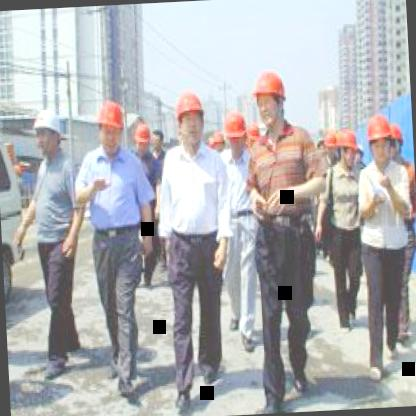helmet: (249, 66, 290, 134), (171, 86, 209, 150), (93, 100, 128, 154), (29, 105, 64, 157), (364, 113, 394, 168), (329, 124, 362, 172), (219, 106, 249, 156), (130, 118, 153, 158), (388, 118, 406, 165)
